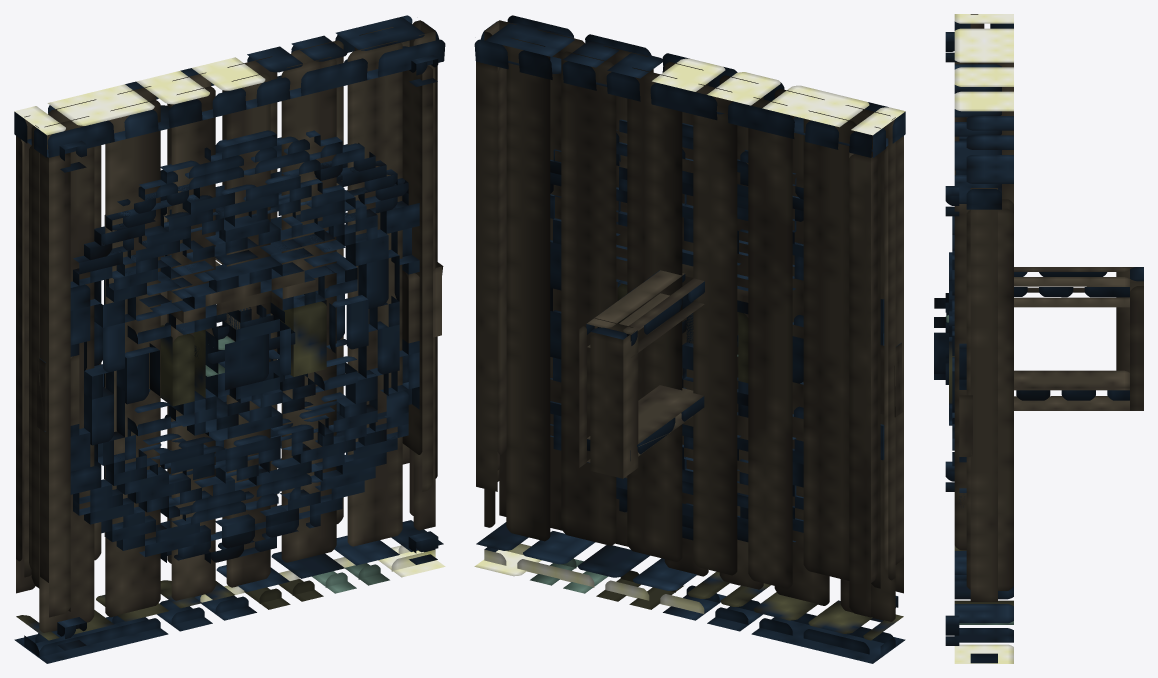
File: lens_shield.obj
The picture shows the model from 3 angles, left to right: view 1: azimuth 30°, elevation 25°; view 2: azimuth 150°, elevation 25°; view 3: azimuth 270°, elevation 25°; orthographic projection. The views are drawn at different scales.
Parts seen in each view (by area): view 1: lit, fire; view 2: lit; view 3: lit, fire.
Boxes of the visible parts, x1,y1,x2,y2 form: lit: [14, 15, 445, 663]; fire: [205, 307, 290, 399]; lit: [474, 15, 905, 663]; lit: [945, 14, 1143, 663]; fire: [934, 298, 948, 379].
Bounding box in the file's own units: 1.13 × 1.44 × 0.575.
